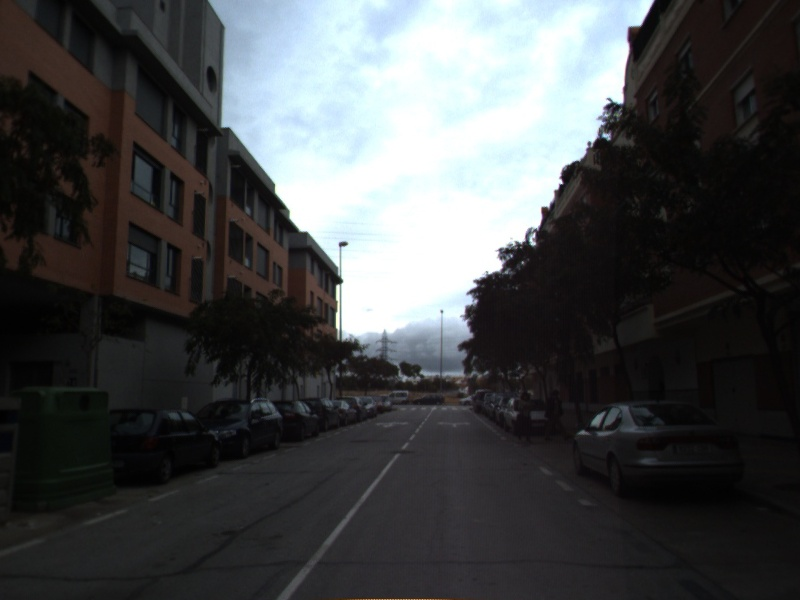LEFT_RIGHT: (435, 418, 474, 430)
